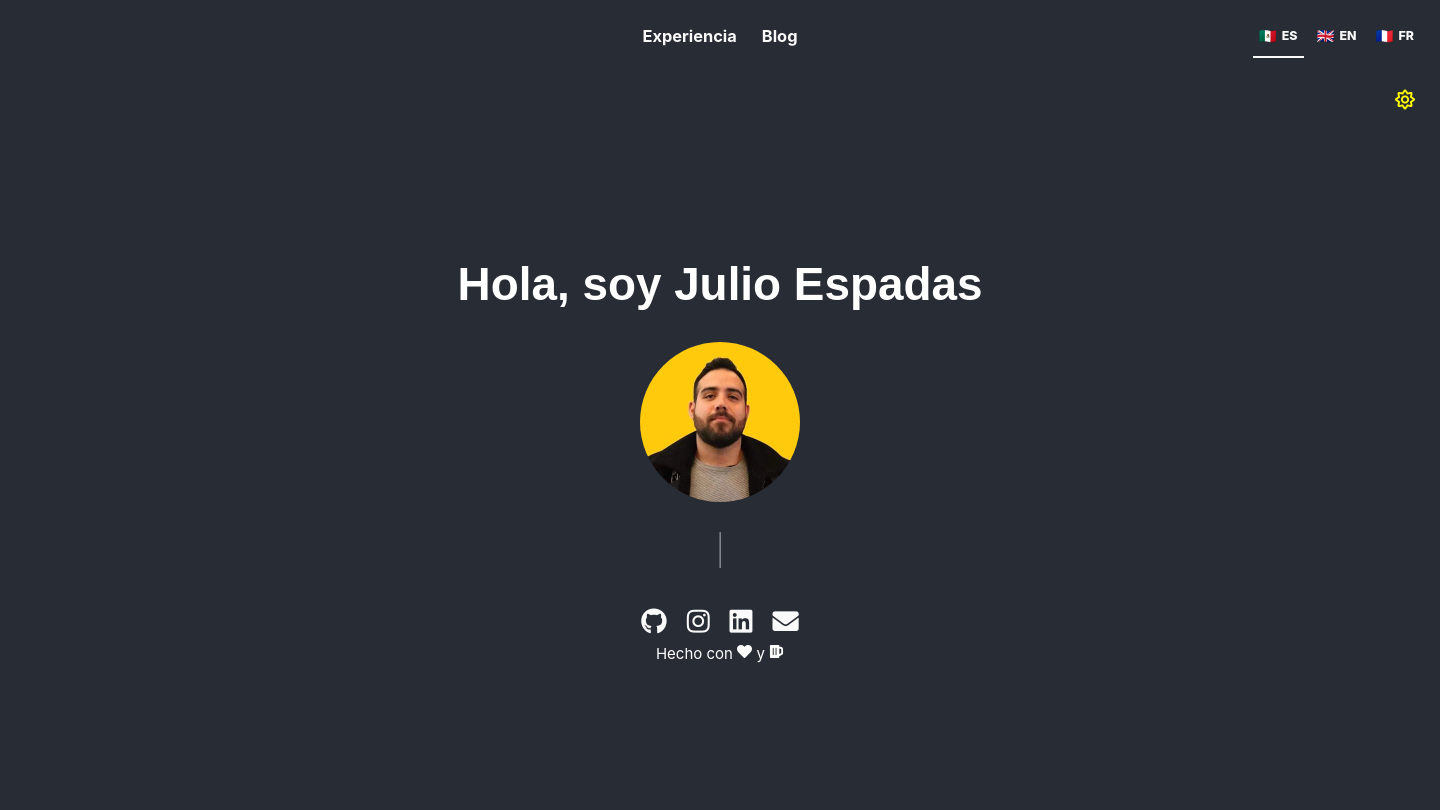
Test: App › shows the home button outside the landing page
Click the button "Blog".
click(780, 38)  # box [762,15,798,60]
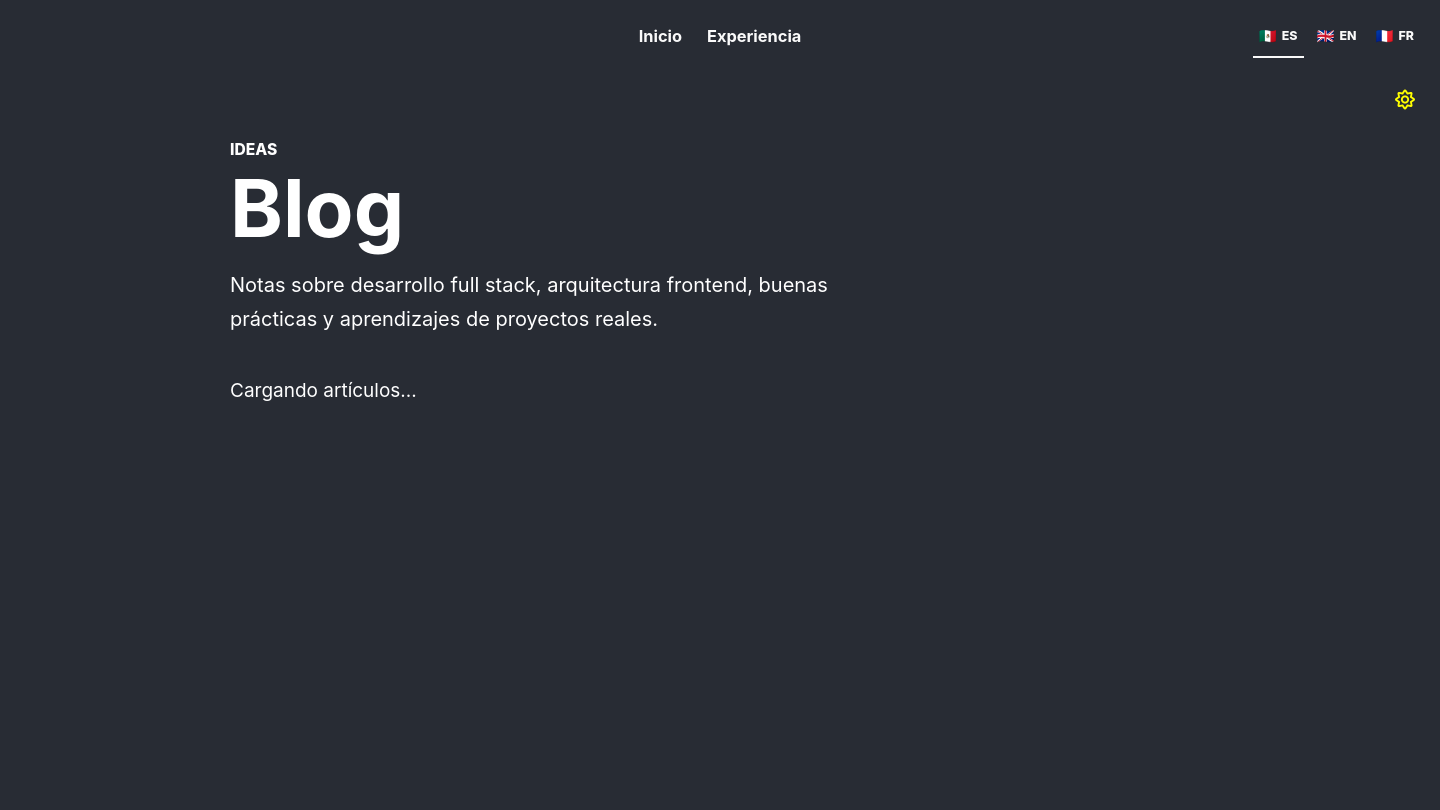
Click the button "Inicio".
click(660, 38)  # box [639,15,682,60]
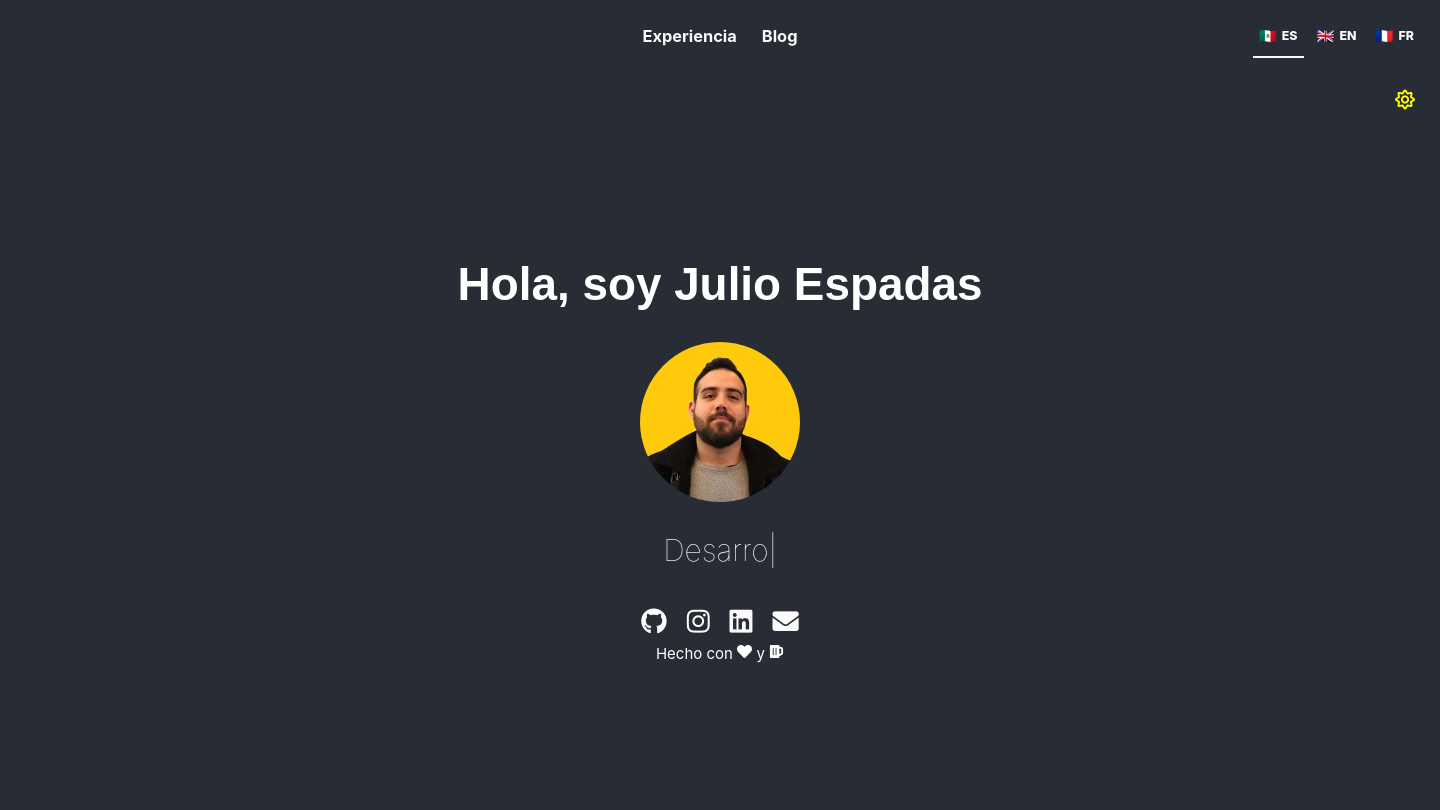
expect the heading "Hola, soy Julio Espadas" is shown: met, box [458,258,982,311]
expect the button "Inicio" is gone: met
